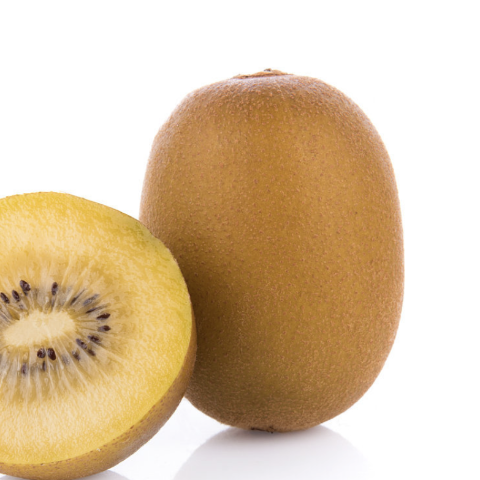kiwi: (95, 54, 455, 474)
